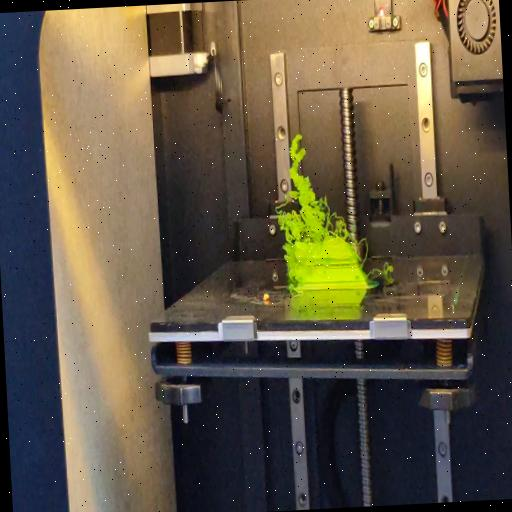spaghetti: (270, 132, 356, 244), (284, 244, 298, 294), (357, 232, 371, 278), (369, 262, 395, 286)
